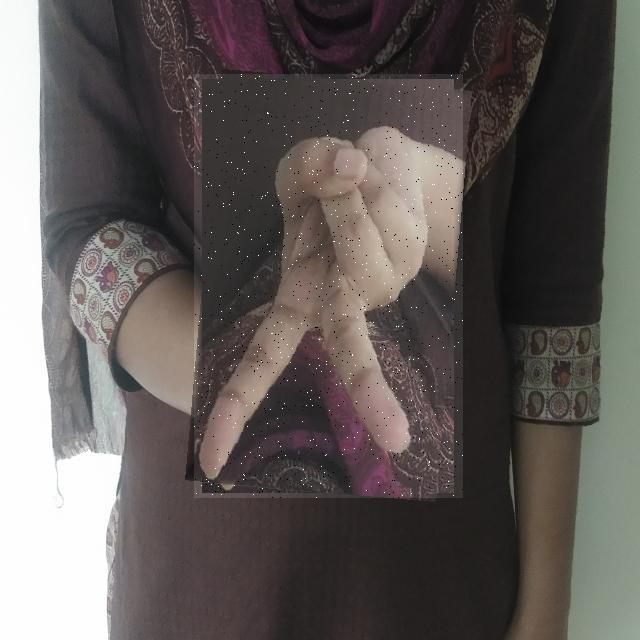V: (194, 74, 463, 498)
